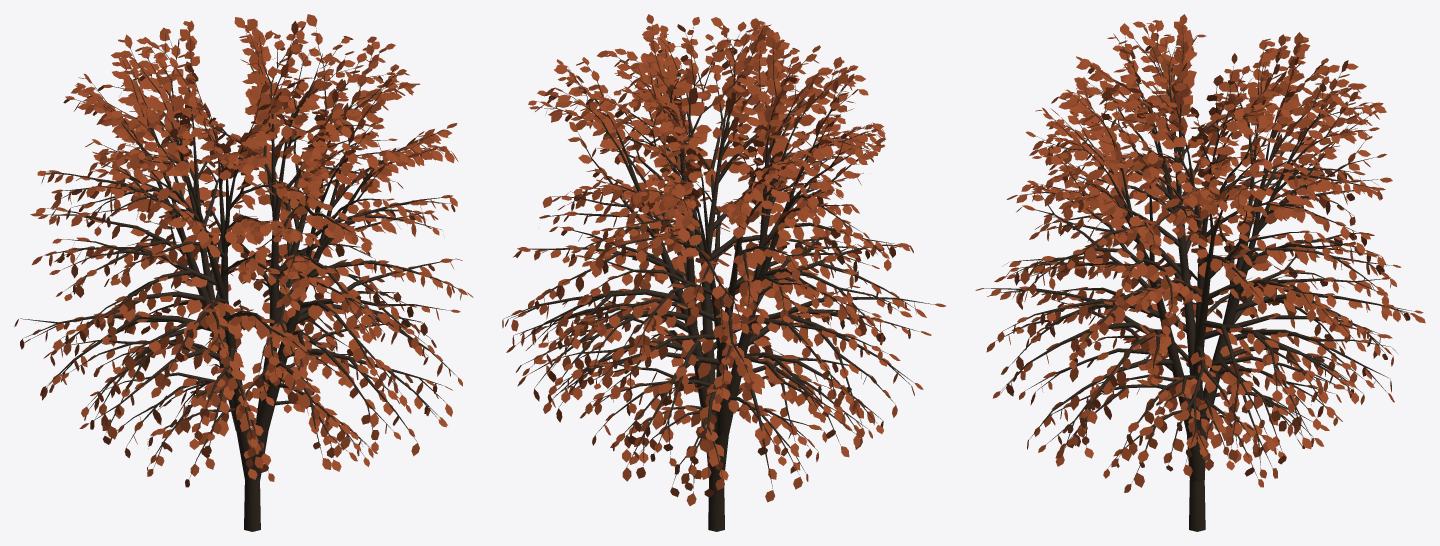
The model's file is Tree_09.fbx.
3 renders of one model, left to right at view 1: azimuth 30°, elevation 25°; view 2: azimuth 150°, elevation 25°; view 3: azimuth 270°, elevation 25°, orthographic.
Visible parts, largest first — view 1: leaves_09, Tree_09; view 2: leaves_09, Tree_09; view 3: leaves_09, Tree_09.
Part boxes in pixels (x1,y1,x2,y2): leaves_09: (14, 14, 473, 487); Tree_09: (20, 26, 466, 531); leaves_09: (502, 14, 945, 505); Tree_09: (504, 24, 933, 531); leaves_09: (975, 14, 1425, 492); Tree_09: (985, 23, 1413, 531).
Bounding box in the file's own units: 931 × 1153 × 969.
